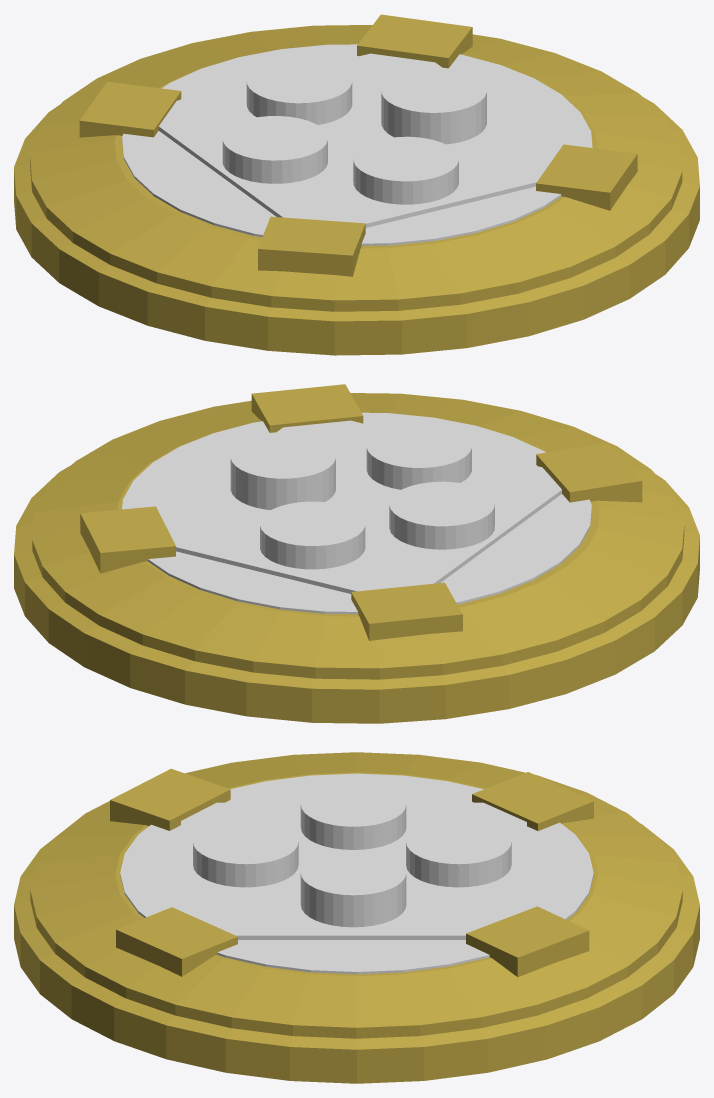
File: towerdecorationtest.fbx
3 renders of one model, top to bottom at view 1: azimuth 30°, elevation 25°; view 2: azimuth 150°, elevation 25°; view 3: azimuth 270°, elevation 25°, orthographic.
Parts seen in each view (by area): view 1: Cylinder, Cylinder.002, Cube.002, Cylinder.001, Cylinder.010, Cylinder.007, Cylinder.009, Cylinder.008, Cube, Cube.001, Cube.003, Cube.004; view 2: Cylinder, Cylinder.002, Cube.002, Cylinder.001, Cylinder.010, Cylinder.008, Cylinder.009, Cylinder.007, Cube.004, Cube.003, Cube, Cube.001; view 3: Cylinder, Cylinder.002, Cylinder.001, Cube.002, Cylinder.010, Cylinder.009, Cylinder.008, Cylinder.007, Cube.003, Cube.001, Cube, Cube.004.
Boxes of the visible parts, bbox=[...] form: Cylinder: bbox=[30, 25, 682, 311]; Cylinder.002: bbox=[14, 97, 699, 355]; Cube.002: bbox=[158, 53, 557, 227]; Cylinder.001: bbox=[122, 44, 592, 245]; Cylinder.010: bbox=[381, 68, 486, 144]; Cylinder.007: bbox=[353, 136, 458, 204]; Cylinder.009: bbox=[222, 116, 327, 183]; Cylinder.008: bbox=[246, 58, 352, 124]; Cube: bbox=[258, 216, 365, 276]; Cube.001: bbox=[536, 144, 637, 210]; Cube.003: bbox=[357, 14, 472, 68]; Cube.004: bbox=[79, 81, 181, 137]; Cylinder: bbox=[32, 393, 684, 679]; Cylinder.002: bbox=[14, 465, 699, 723]; Cube.002: bbox=[161, 420, 561, 593]; Cylinder.001: bbox=[122, 412, 591, 614]; Cylinder.010: bbox=[230, 434, 335, 509]; Cylinder.008: bbox=[260, 501, 365, 569]; Cylinder.009: bbox=[389, 481, 494, 549]; Cylinder.007: bbox=[366, 423, 471, 489]; Cube.004: bbox=[351, 582, 462, 640]; Cube.003: bbox=[80, 506, 175, 573]; Cube: bbox=[536, 442, 642, 502]; Cube.001: bbox=[251, 384, 363, 432]; Cylinder: bbox=[30, 752, 682, 1038]; Cylinder.002: bbox=[14, 824, 699, 1083]; Cylinder.001: bbox=[120, 773, 593, 974]; Cube.002: bbox=[181, 802, 526, 939]; Cylinder.010: bbox=[300, 850, 406, 927]; Cylinder.009: bbox=[300, 782, 406, 849]; Cylinder.008: bbox=[406, 819, 511, 887]; Cylinder.007: bbox=[193, 819, 298, 887]; Cube.003: bbox=[466, 906, 589, 976]; Cube.001: bbox=[116, 907, 237, 976]; Cube: bbox=[110, 768, 230, 830]; Cube.004: bbox=[472, 772, 593, 830].
Size of the model in its own units: 868 by 158 by 868.
